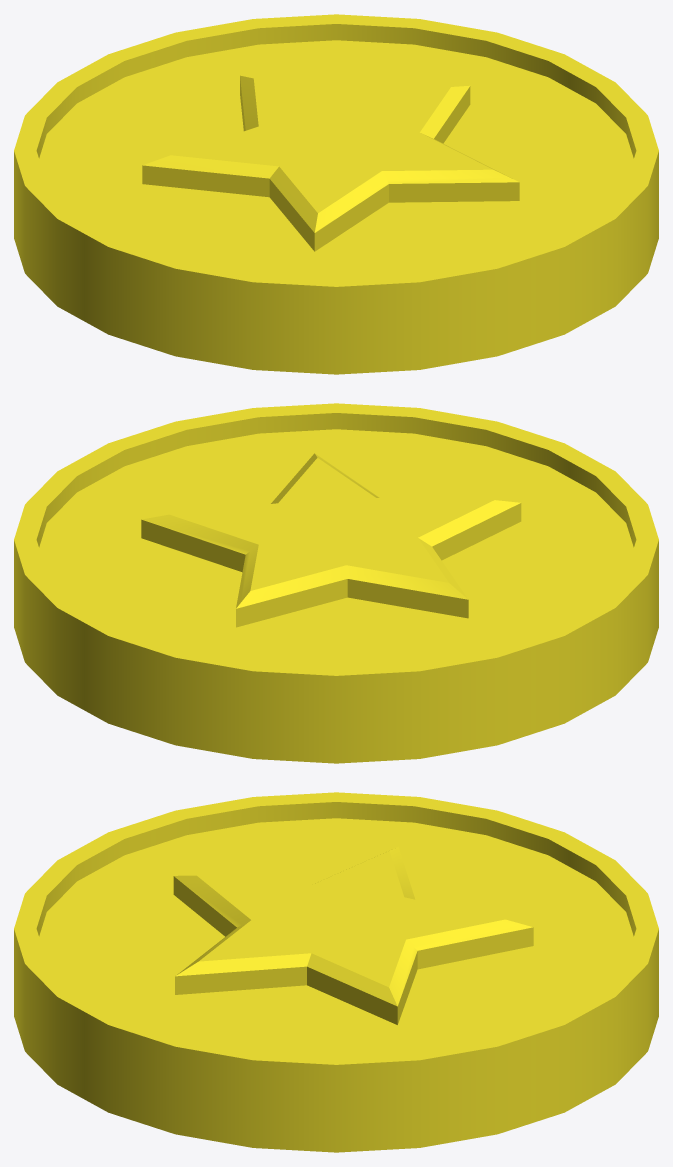
File: Star_Coin.fbx
3 renders of one model, top to bottom at view 1: azimuth 30°, elevation 25°; view 2: azimuth 150°, elevation 25°; view 3: azimuth 270°, elevation 25°, orthographic.
Parts seen in each view (by area): view 1: Star_Coin; view 2: Star_Coin; view 3: Star_Coin.
Boxes of the visible parts, x1,y1,x2,y2 form: Star_Coin: (14, 14, 658, 374); Star_Coin: (14, 403, 658, 763); Star_Coin: (14, 792, 658, 1152).
Bounding box in the file's own units: 20 × 3.68 × 20.
